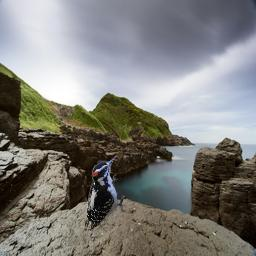Woodpecker: (87, 157, 126, 229)
